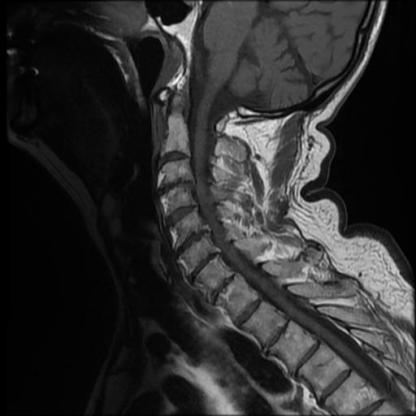Disc Bulgerotation: (181, 254, 226, 279), (162, 205, 200, 223), (168, 235, 212, 249), (158, 178, 195, 193), (157, 151, 191, 167)
Disc Protrusionrotation: (157, 151, 191, 167)
